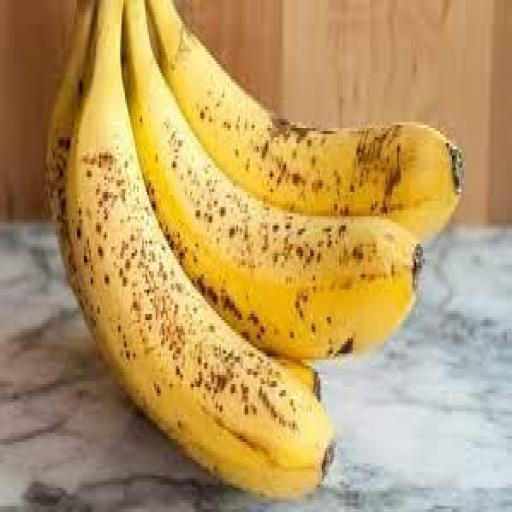banana: (66, 0, 332, 496), (126, 0, 421, 359), (149, 0, 464, 237)
